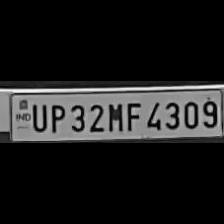0: (180, 98, 198, 128)
2: (86, 100, 104, 132)
3: (66, 100, 86, 132), (162, 99, 180, 129)
4: (144, 98, 162, 130)
9: (198, 97, 218, 128)
F: (123, 99, 141, 131)
M: (105, 100, 123, 132)
P: (48, 101, 66, 133)
U: (29, 101, 47, 131)
